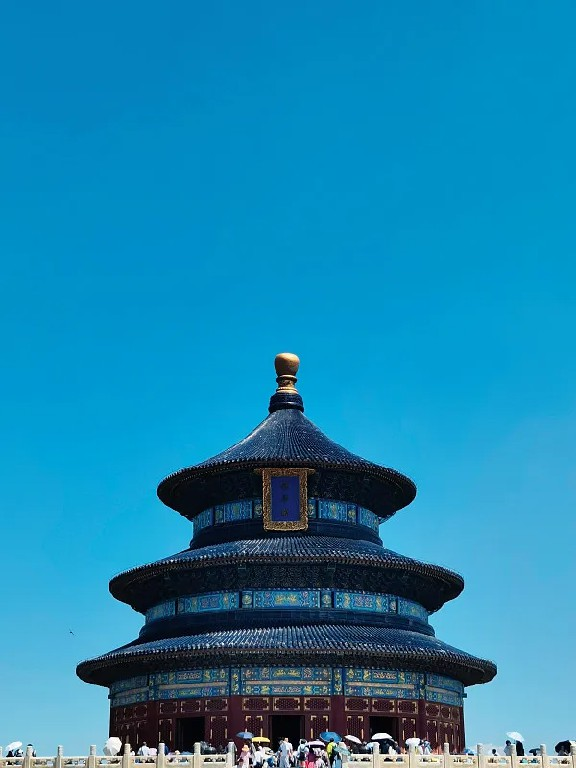Heaven: (77, 351, 522, 752)
